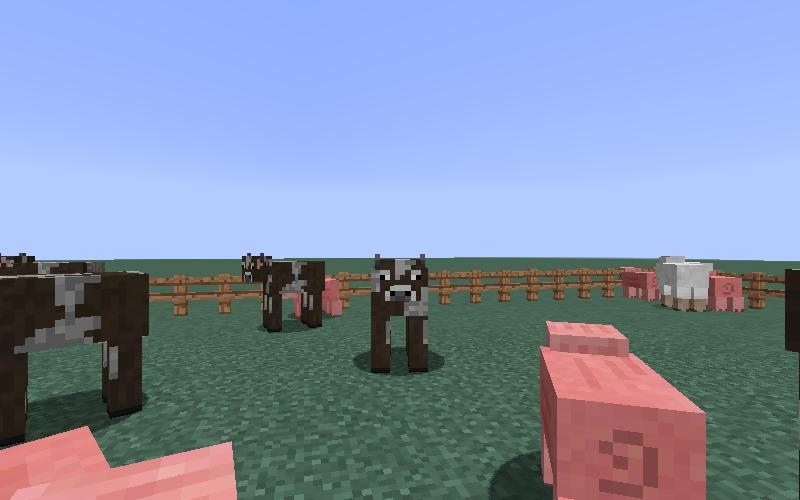cow: (1, 250, 152, 447), (365, 249, 433, 382), (237, 245, 330, 336)
pig: (536, 317, 708, 500), (617, 266, 662, 305), (710, 273, 744, 314)
sheep: (654, 252, 716, 316)
